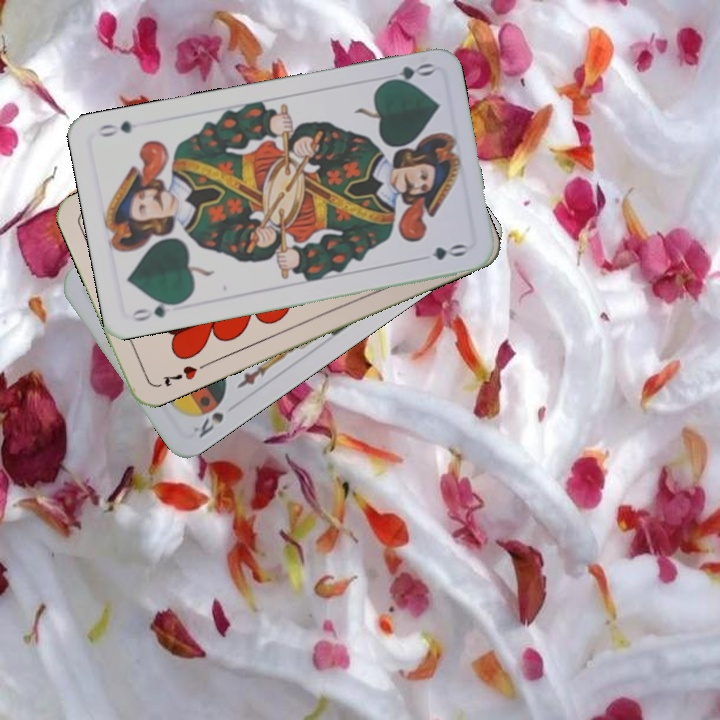GO: (127, 296, 185, 324), (378, 59, 436, 87)
H7: (158, 361, 200, 390)
SK: (189, 408, 227, 441)
